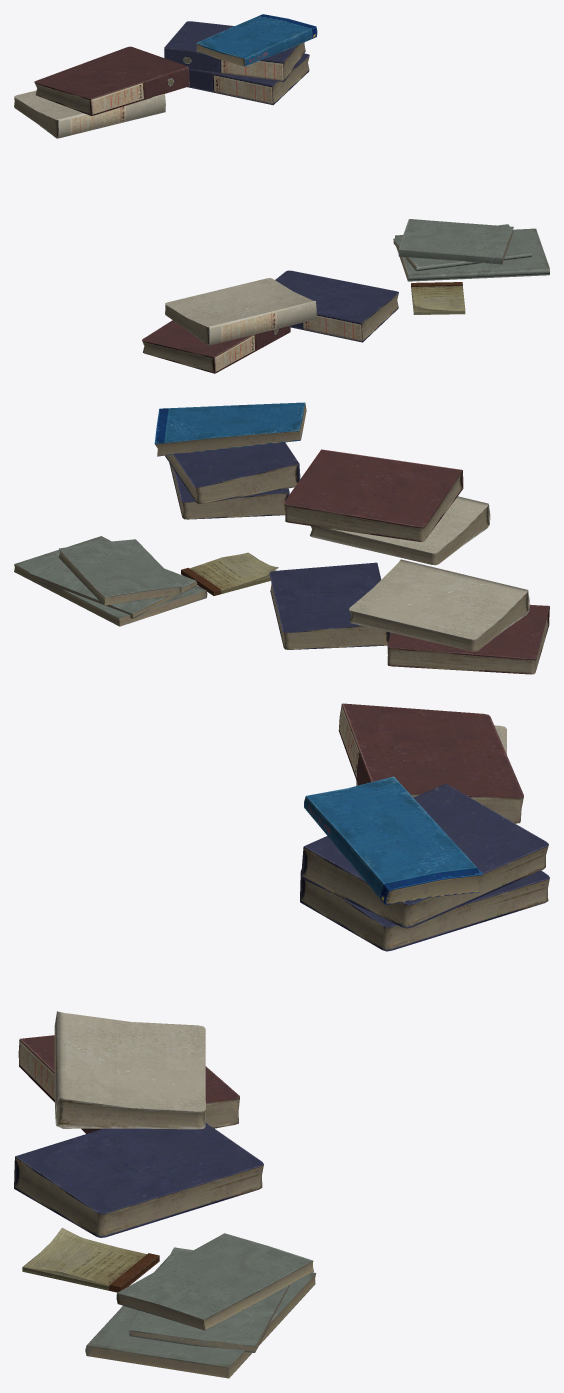
File: sm39_011_deskset01c.fbx
3 views of the same model, one above another, from view 1: azimuth 30°, elevation 25°; view 2: azimuth 150°, elevation 25°; view 3: azimuth 270°, elevation 25° (orthographic). The views are drawn at different scales.
Parts seen in each view (by area): view 1: LOD_1_Group_1_Sub_1__sm36_007_PaperWork01A_A_Mat, LOD_1_Group_9_Sub_1__sm36_007_PaperWork01A_A_Mat, LOD_1_Group_11_Sub_1__sm36_007_PaperWork01A_A_Mat, LOD_1_Group_4_Sub_1__sm36_007_PaperWork01A_A_Mat, LOD_1_Group_7_Sub_1__sm36_007_PaperWork01A_A_Mat, LOD_1_Group_8_Sub_1__sm36_007_PaperWork01A_A_Mat, LOD_1_Group_5_Sub_1__sm36_007_PaperWork01A_A_Mat, LOD_1_Group_3_Sub_1__sm36_007_PaperWork01A_A_Mat, LOD_1_Group_2_Sub_1__sm36_007_PaperWork01A_A_Mat, LOD_1_Group_10_Sub_1__sm36_013_Notepad01A_A_Mat, LOD_1_Group_6_Sub_1__sm36_007_PaperWork01A_A_Mat; view 2: LOD_1_Group_1_Sub_1__sm36_007_PaperWork01A_A_Mat, LOD_1_Group_9_Sub_1__sm36_007_PaperWork01A_A_Mat, LOD_1_Group_11_Sub_1__sm36_007_PaperWork01A_A_Mat, LOD_1_Group_8_Sub_1__sm36_007_PaperWork01A_A_Mat, LOD_1_Group_7_Sub_1__sm36_007_PaperWork01A_A_Mat, LOD_1_Group_4_Sub_1__sm36_007_PaperWork01A_A_Mat, LOD_1_Group_5_Sub_1__sm36_007_PaperWork01A_A_Mat, LOD_1_Group_2_Sub_1__sm36_007_PaperWork01A_A_Mat, LOD_1_Group_3_Sub_1__sm36_007_PaperWork01A_A_Mat, LOD_1_Group_10_Sub_1__sm36_013_Notepad01A_A_Mat, LOD_1_Group_6_Sub_1__sm36_007_PaperWork01A_A_Mat; view 3: LOD_1_Group_1_Sub_1__sm36_007_PaperWork01A_A_Mat, LOD_1_Group_11_Sub_1__sm36_007_PaperWork01A_A_Mat, LOD_1_Group_9_Sub_1__sm36_007_PaperWork01A_A_Mat, LOD_1_Group_8_Sub_1__sm36_007_PaperWork01A_A_Mat, LOD_1_Group_4_Sub_1__sm36_007_PaperWork01A_A_Mat, LOD_1_Group_2_Sub_1__sm36_007_PaperWork01A_A_Mat, LOD_1_Group_3_Sub_1__sm36_007_PaperWork01A_A_Mat, LOD_1_Group_10_Sub_1__sm36_013_Notepad01A_A_Mat, LOD_1_Group_6_Sub_1__sm36_007_PaperWork01A_A_Mat, LOD_1_Group_7_Sub_1__sm36_007_PaperWork01A_A_Mat.
Boxes of the visible parts, x1,y1,x2,y2 form: LOD_1_Group_1_Sub_1__sm36_007_PaperWork01A_A_Mat: (165,14,317,345); LOD_1_Group_9_Sub_1__sm36_007_PaperWork01A_A_Mat: (34,46,189,115); LOD_1_Group_11_Sub_1__sm36_007_PaperWork01A_A_Mat: (275,270,398,342); LOD_1_Group_4_Sub_1__sm36_007_PaperWork01A_A_Mat: (398,219,513,264); LOD_1_Group_7_Sub_1__sm36_007_PaperWork01A_A_Mat: (142,320,290,373); LOD_1_Group_8_Sub_1__sm36_007_PaperWork01A_A_Mat: (164,21,305,81); LOD_1_Group_5_Sub_1__sm36_007_PaperWork01A_A_Mat: (14,90,165,138); LOD_1_Group_3_Sub_1__sm36_007_PaperWork01A_A_Mat: (395,228,549,281); LOD_1_Group_2_Sub_1__sm36_007_PaperWork01A_A_Mat: (187,53,309,105); LOD_1_Group_10_Sub_1__sm36_013_Notepad01A_A_Mat: (411,282,465,314); LOD_1_Group_6_Sub_1__sm36_007_PaperWork01A_A_Mat: (393,224,531,271); LOD_1_Group_1_Sub_1__sm36_007_PaperWork01A_A_Mat: (154,402,529,651); LOD_1_Group_9_Sub_1__sm36_007_PaperWork01A_A_Mat: (284,449,463,541); LOD_1_Group_11_Sub_1__sm36_007_PaperWork01A_A_Mat: (269,562,390,649); LOD_1_Group_8_Sub_1__sm36_007_PaperWork01A_A_Mat: (165,442,300,503); LOD_1_Group_7_Sub_1__sm36_007_PaperWork01A_A_Mat: (387,604,549,674); LOD_1_Group_4_Sub_1__sm36_007_PaperWork01A_A_Mat: (59,539,181,605); LOD_1_Group_5_Sub_1__sm36_007_PaperWork01A_A_Mat: (310,496,490,565); LOD_1_Group_2_Sub_1__sm36_007_PaperWork01A_A_Mat: (169,463,289,519); LOD_1_Group_3_Sub_1__sm36_007_PaperWork01A_A_Mat: (14,536,207,626); LOD_1_Group_10_Sub_1__sm36_013_Notepad01A_A_Mat: (181,552,278,595); LOD_1_Group_6_Sub_1__sm36_007_PaperWork01A_A_Mat: (28,541,197,618); LOD_1_Group_1_Sub_1__sm36_007_PaperWork01A_A_Mat: (54,776,483,1129); LOD_1_Group_11_Sub_1__sm36_007_PaperWork01A_A_Mat: (14,1123,263,1237); LOD_1_Group_9_Sub_1__sm36_007_PaperWork01A_A_Mat: (338,703,523,823); LOD_1_Group_8_Sub_1__sm36_007_PaperWork01A_A_Mat: (301,783,548,928); LOD_1_Group_4_Sub_1__sm36_007_PaperWork01A_A_Mat: (116,1233,313,1330); LOD_1_Group_2_Sub_1__sm36_007_PaperWork01A_A_Mat: (300,869,549,951); LOD_1_Group_3_Sub_1__sm36_007_PaperWork01A_A_Mat: (85,1255,316,1378); LOD_1_Group_10_Sub_1__sm36_013_Notepad01A_A_Mat: (22,1227,159,1292); LOD_1_Group_6_Sub_1__sm36_007_PaperWork01A_A_Mat: (128,1247,289,1352); LOD_1_Group_7_Sub_1__sm36_007_PaperWork01A_A_Mat: (18,1035,239,1133).
Size of the model in its own units: 1.31 by 0.6492 by 0.848.
